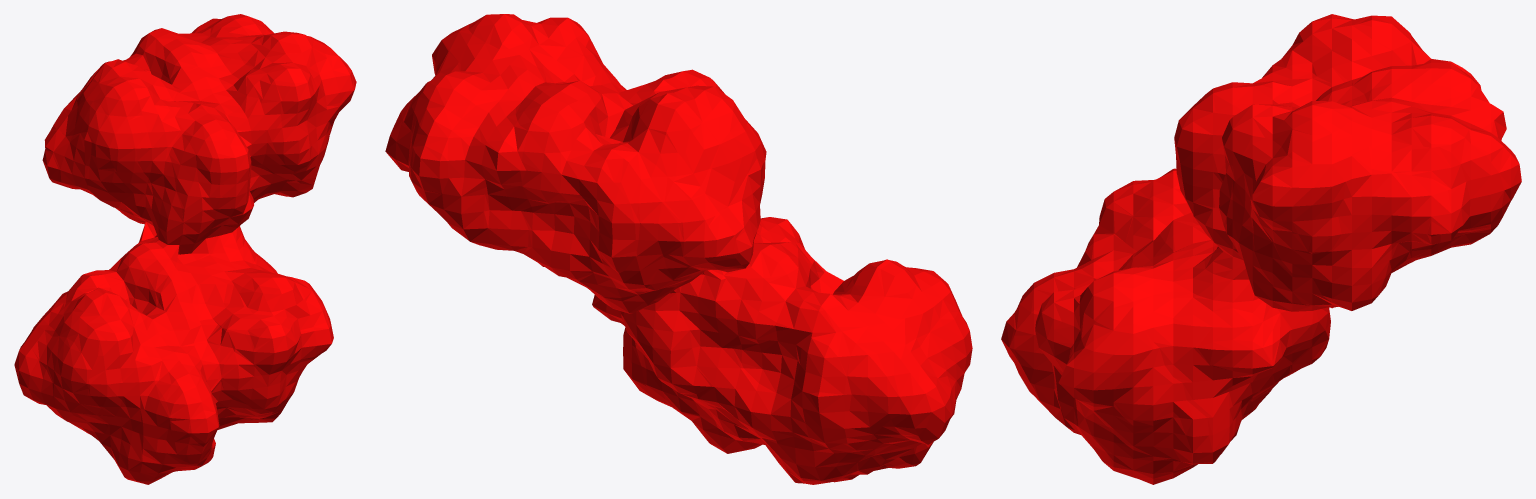
The model's file is dld_coarse.dae.
3 views of the same model, side by side, from view 1: azimuth 30°, elevation 25°; view 2: azimuth 150°, elevation 25°; view 3: azimuth 270°, elevation 25° (orthographic). The views are drawn at different scales.
Visible parts, largest first — view 1: dld; view 2: dld; view 3: dld.
Boxes of the visible parts, x1,y1,x2,y2 form: dld: (14,14,356,484); dld: (385,14,972,484); dld: (1001,14,1521,484).
Size of the model in its own units: 103 by 95.46 by 96.66.
